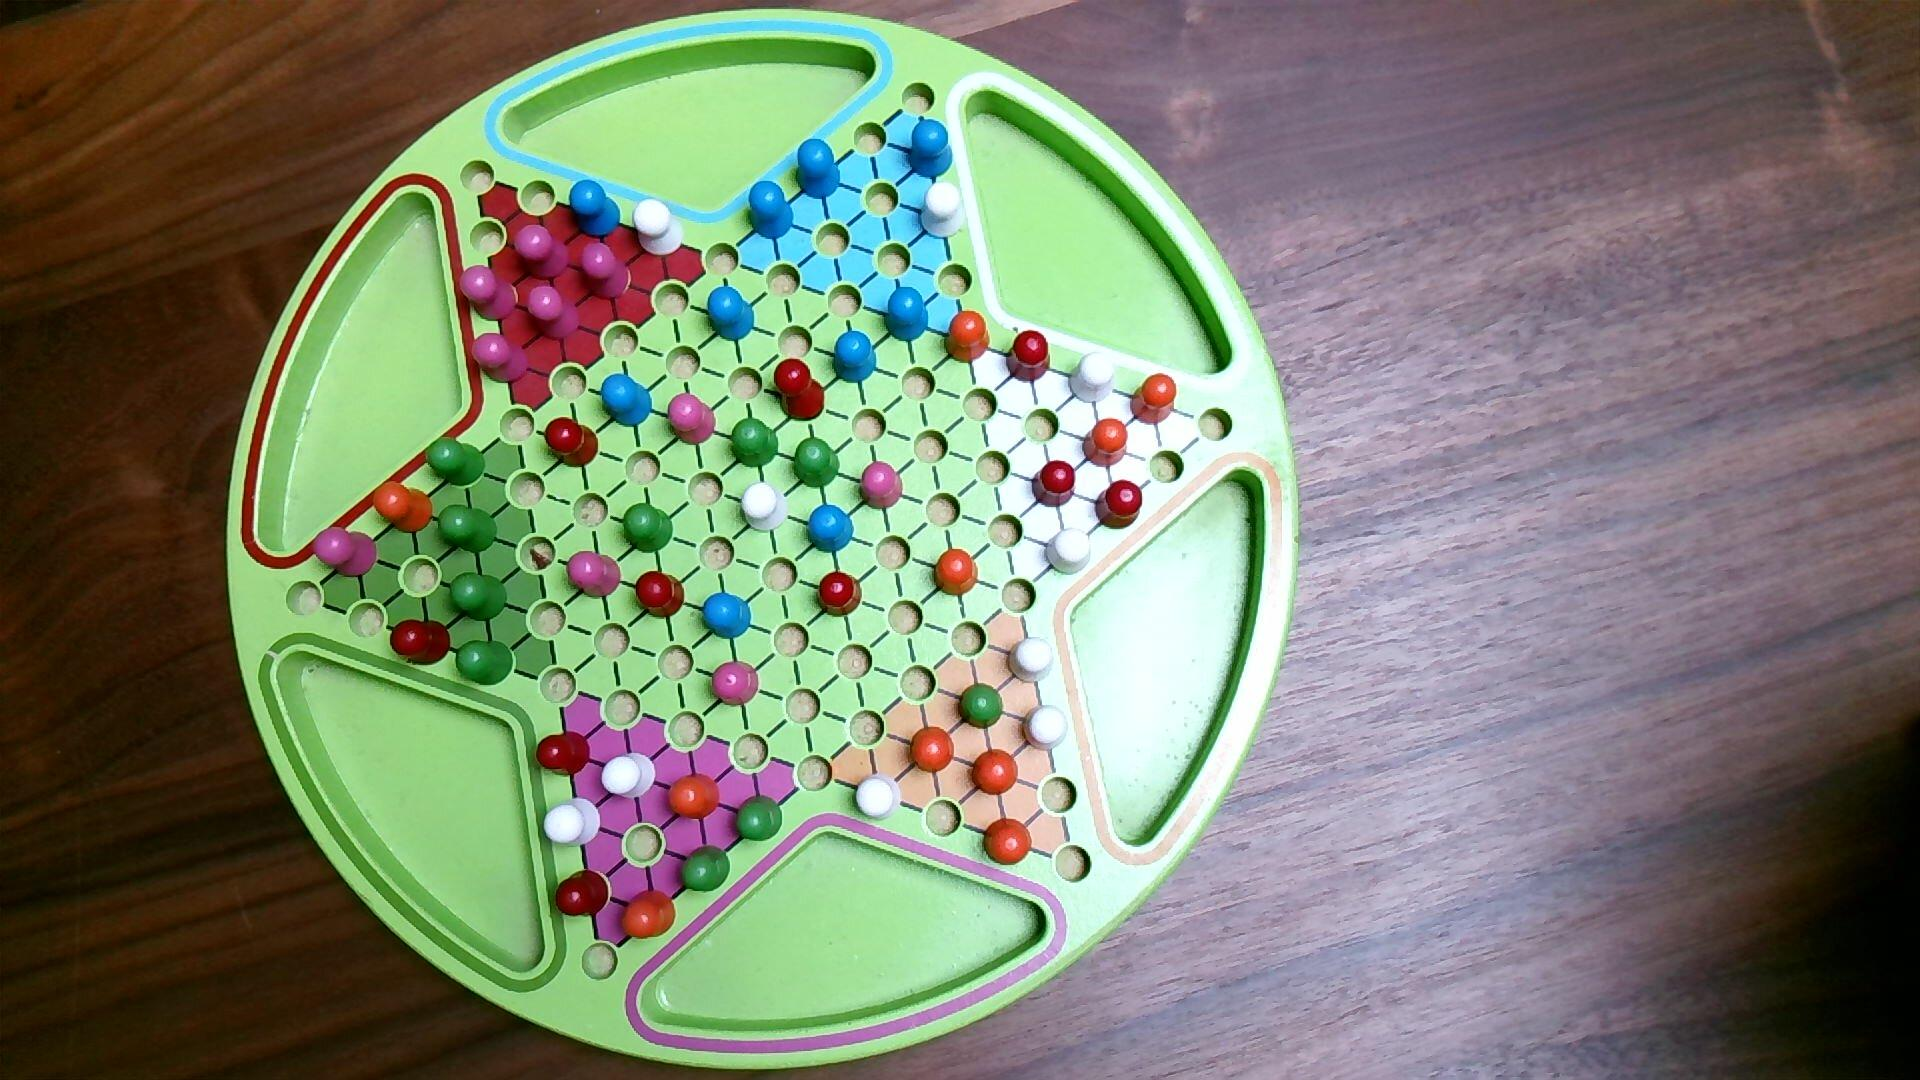B: (567, 179, 622, 240), (746, 179, 796, 243), (907, 117, 956, 181), (707, 284, 757, 344), (795, 138, 843, 202), (601, 373, 654, 430), (884, 285, 931, 345), (832, 328, 878, 386), (702, 591, 753, 642), (806, 502, 856, 555)
G: (425, 435, 488, 491), (448, 570, 509, 625), (436, 504, 500, 556), (455, 640, 516, 688), (622, 502, 676, 556), (676, 843, 733, 894), (791, 436, 843, 491), (731, 415, 781, 469), (732, 794, 785, 844), (957, 680, 1006, 732)
O: (371, 480, 436, 535), (620, 887, 678, 942), (666, 773, 723, 822), (943, 309, 992, 365), (1130, 372, 1178, 429), (982, 816, 1034, 868), (971, 748, 1021, 798), (1081, 417, 1129, 469), (909, 725, 957, 775), (934, 547, 978, 599)
R: (773, 357, 827, 422), (389, 618, 454, 669), (543, 415, 601, 469), (554, 868, 611, 919), (535, 731, 593, 778), (634, 568, 686, 621), (1095, 477, 1145, 531), (1005, 328, 1052, 384), (815, 568, 864, 618), (1033, 459, 1077, 509)
R2: (458, 264, 520, 323), (512, 223, 572, 282), (313, 526, 378, 579), (526, 284, 583, 342), (471, 331, 530, 386), (579, 243, 632, 302), (566, 550, 622, 601), (666, 392, 717, 447), (709, 658, 762, 709), (857, 459, 905, 512)
W: (632, 198, 686, 258), (542, 796, 603, 849), (919, 179, 968, 241), (1067, 349, 1118, 405), (601, 752, 658, 802), (741, 481, 791, 534), (1044, 527, 1095, 578), (855, 773, 903, 823), (1007, 637, 1056, 686), (1022, 704, 1069, 754)
